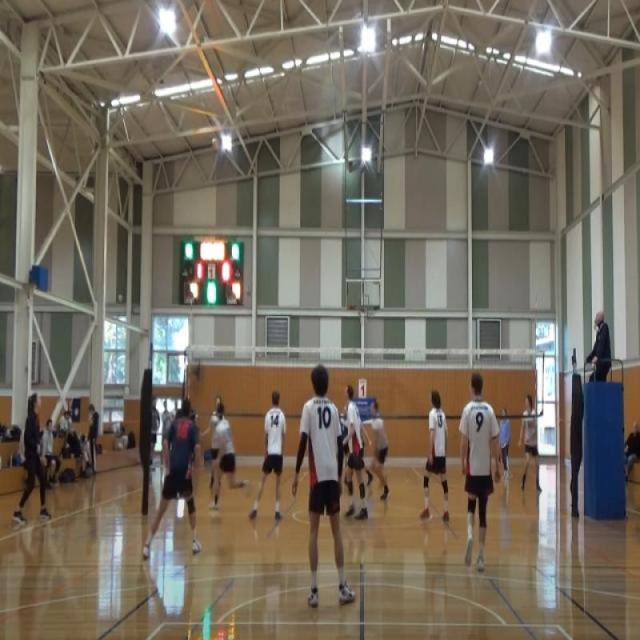volleyball: (210, 136, 221, 154)
